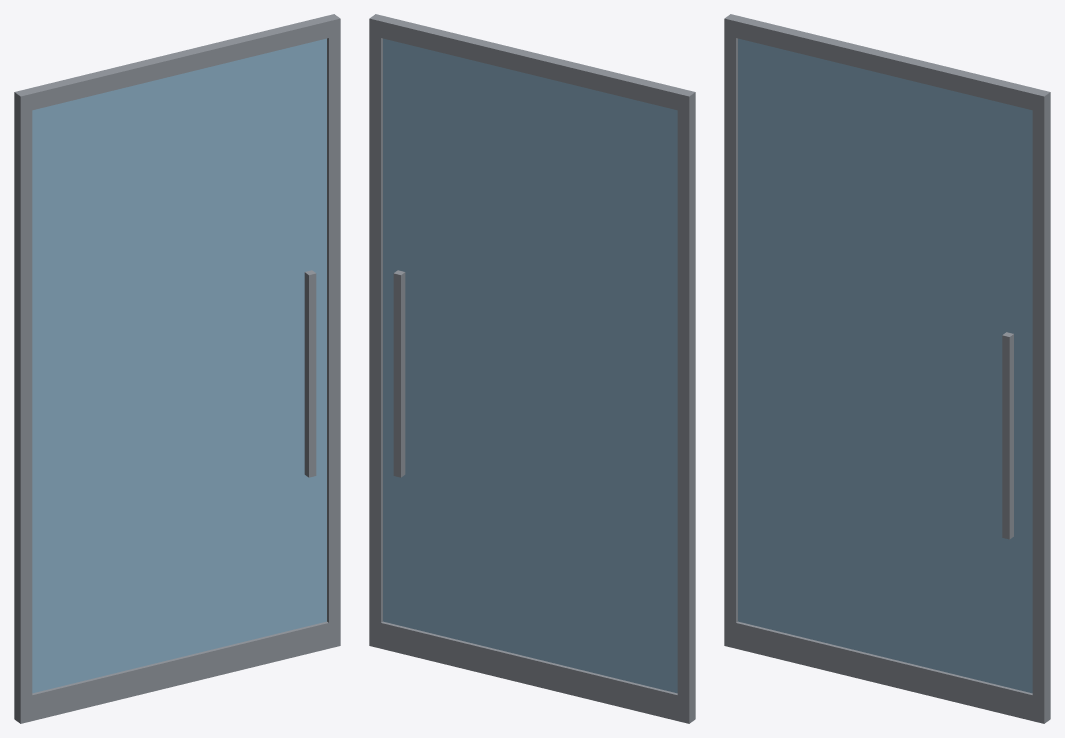
File: SM_Door_glass_150x280.fbx
The picture shows the model from 3 angles, left to right: view 1: azimuth 30°, elevation 25°; view 2: azimuth 150°, elevation 25°; view 3: azimuth 330°, elevation 25°; orthographic projection.
Visible parts, largest first — view 1: SM_Door_glass_150x280; view 2: SM_Door_glass_150x280; view 3: SM_Door_glass_150x280.
Boxes of the visible parts, x1,y1,x2,y2 form: SM_Door_glass_150x280: (14, 14, 340, 723); SM_Door_glass_150x280: (369, 14, 695, 723); SM_Door_glass_150x280: (724, 14, 1050, 723).
Size of the model in its own units: 1.49 by 2.79 by 0.135.
